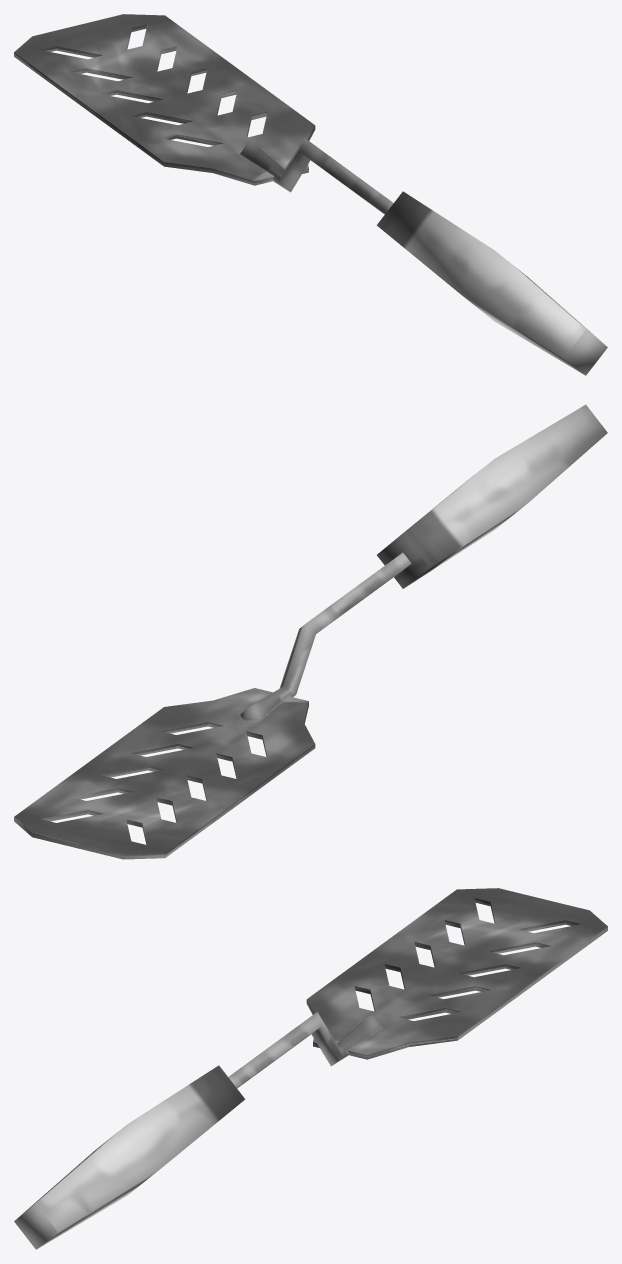
File: obj_Spatula.fbx
3 renders of one model, top to bottom at view 1: azimuth 30°, elevation 25°; view 2: azimuth 150°, elevation 25°; view 3: azimuth 330°, elevation 25°, orthographic.
Parts seen in each view (by area): view 1: obj_Spatula; view 2: obj_Spatula; view 3: obj_Spatula.
Part boxes in pixels (<box>): obj_Spatula: <box>14,14,607,375</box>; obj_Spatula: <box>14,404,607,859</box>; obj_Spatula: <box>14,888,607,1249</box>.
Size of the model in its own units: 0.1051 by 0.0636 by 0.6118.
Materials: 1 (1 with a texture image).
